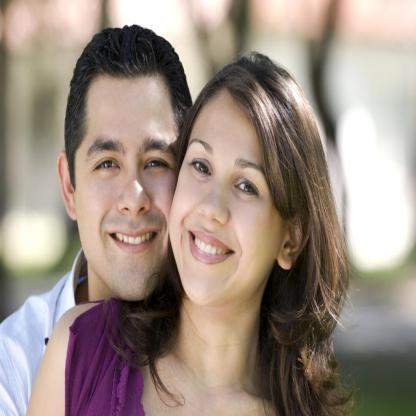face: (168, 85, 278, 306), (78, 76, 186, 301)
